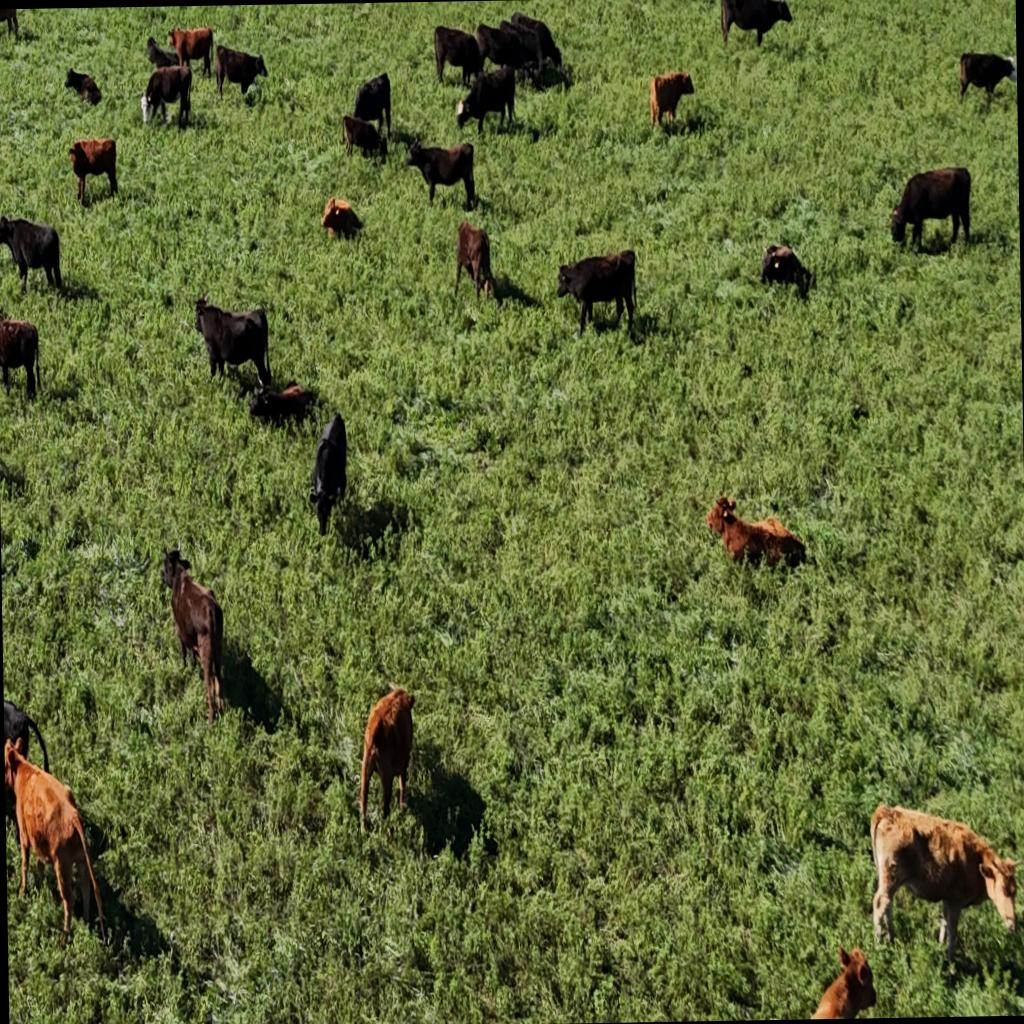cow: (864, 800, 1018, 966), (4, 738, 107, 946), (158, 546, 226, 730), (357, 688, 417, 828), (706, 490, 804, 572), (192, 294, 272, 391), (887, 166, 971, 253), (558, 248, 636, 338), (3, 694, 50, 816), (403, 136, 475, 210), (0, 212, 63, 296), (306, 412, 348, 536), (806, 944, 874, 1018), (455, 63, 515, 137), (506, 10, 562, 82), (0, 305, 39, 402), (719, 0, 793, 49), (66, 135, 118, 204), (141, 62, 193, 130), (452, 219, 494, 303), (432, 23, 484, 90), (474, 20, 526, 84), (248, 378, 312, 428), (758, 239, 812, 298), (958, 50, 1014, 106), (215, 42, 269, 98), (350, 72, 392, 135), (168, 24, 214, 80), (648, 71, 692, 129), (342, 114, 386, 162), (320, 195, 362, 241), (64, 67, 102, 106), (146, 36, 180, 70), (0, 9, 17, 40)
